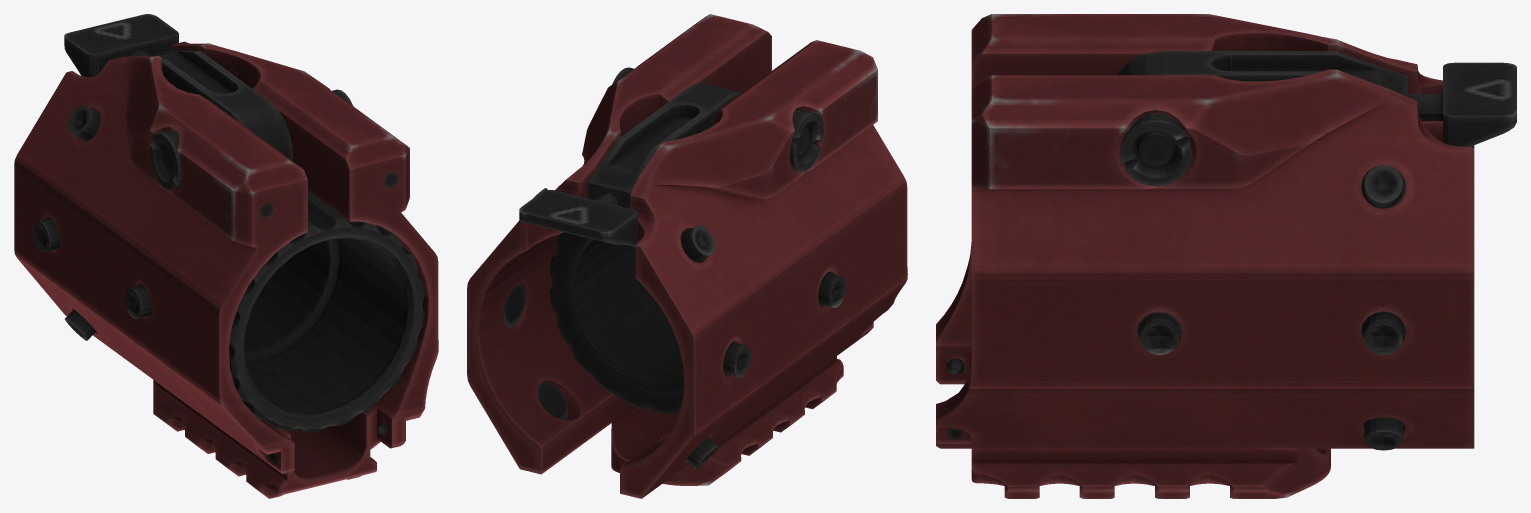
3 renders of one model, left to right at view 1: azimuth 30°, elevation 25°; view 2: azimuth 150°, elevation 25°; view 3: azimuth 270°, elevation 25°, orthographic. The views are drawn at different scales.
Parts seen in each view (by area): view 1: TW_68a7000d7708ac5120060527_PZ_Import; view 2: TW_68a7000d7708ac5120060527_PZ_Import; view 3: TW_68a7000d7708ac5120060527_PZ_Import.
Boxes of the visible parts, x1,y1,x2,y2 form: TW_68a7000d7708ac5120060527_PZ_Import: (14, 14, 438, 498); TW_68a7000d7708ac5120060527_PZ_Import: (467, 14, 907, 498); TW_68a7000d7708ac5120060527_PZ_Import: (936, 14, 1516, 498).
Bounding box in the file's own units: 0.026 × 0.0447 × 0.0353.
Materials: 1 (1 with a texture image).
